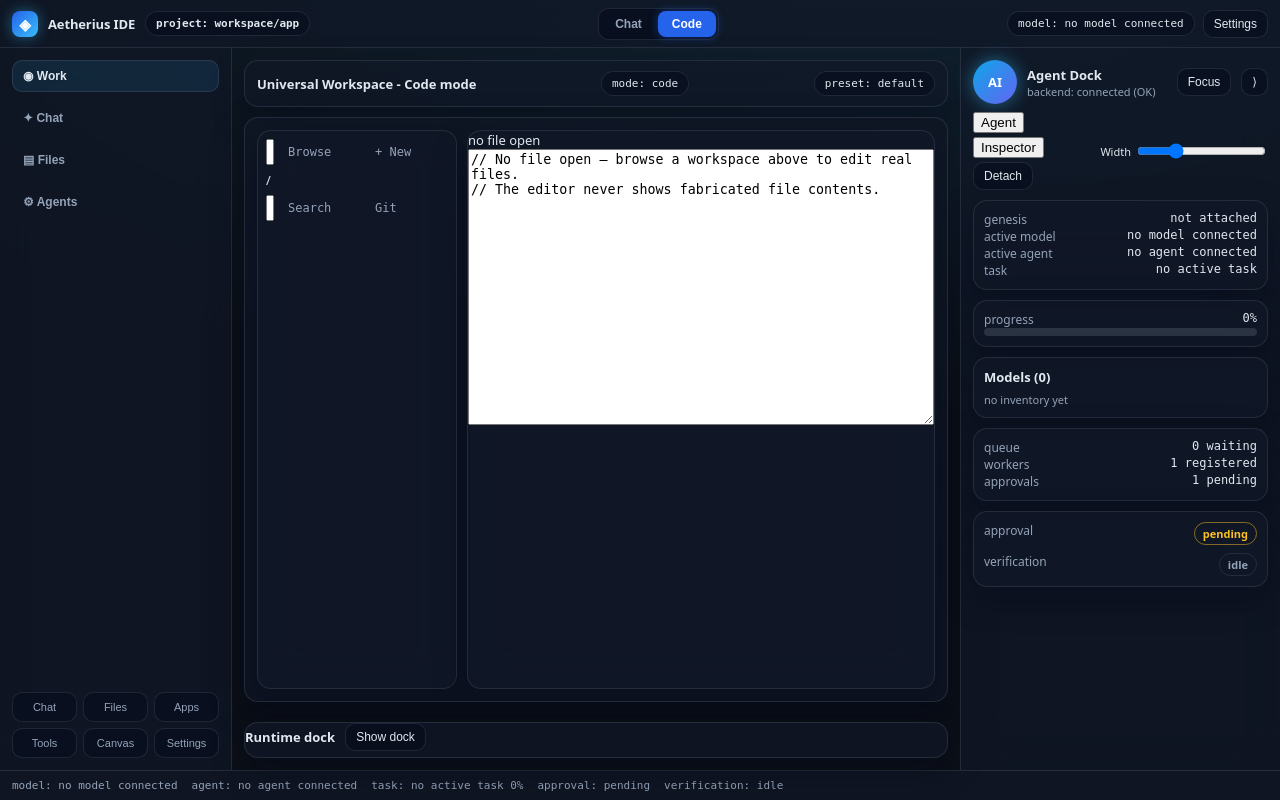
Test: runtime inspection › renders live workers and approvals without fabrication
Expected: the text with test id "backend-state" shows "backend:", [1027,84,1156,98]
Click the tab with test id "sidebar-tab-inspector": point(1008, 148) [973,137,1044,158]
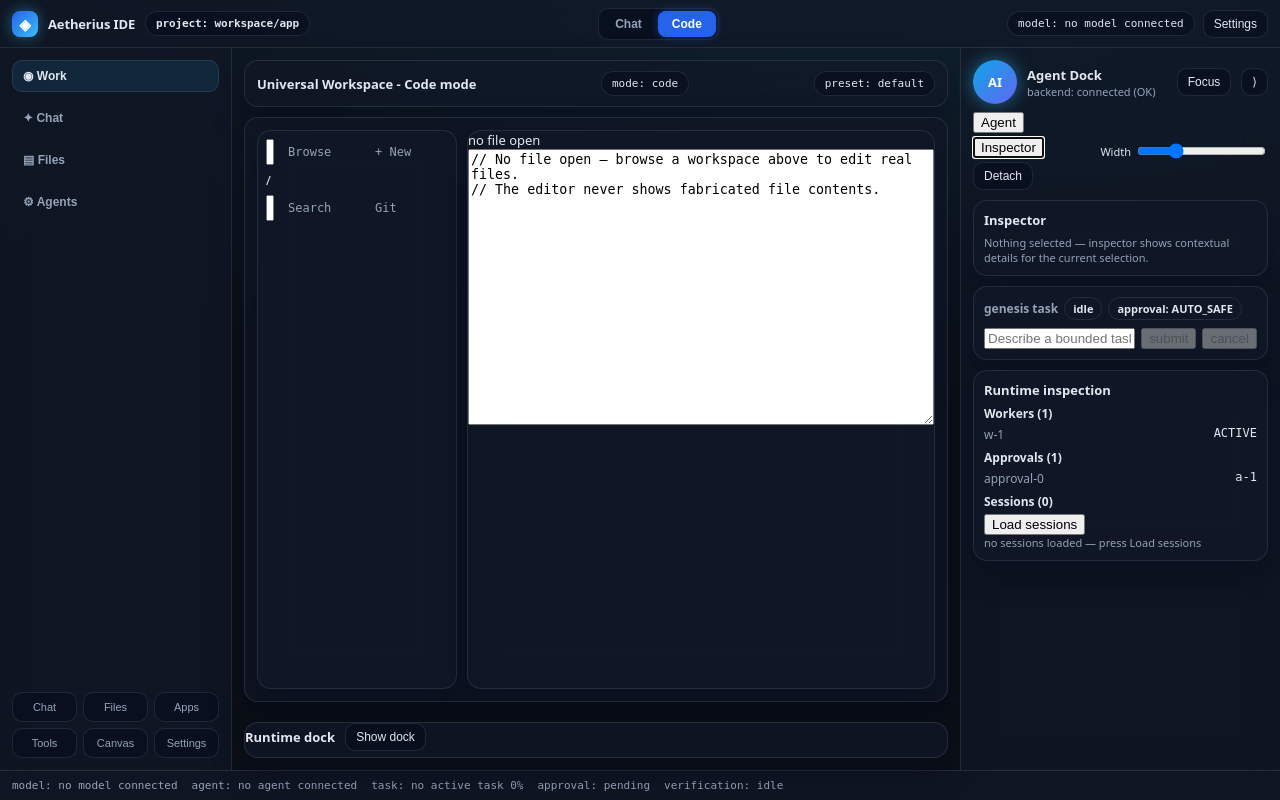
Result: the element with test id "inspector-worker-w-1" shows "ACTIVE" at [1214,426,1257,440]
Result: the element with test id "inspector-approval-0" shows "a-1" at [1235,470,1257,484]
